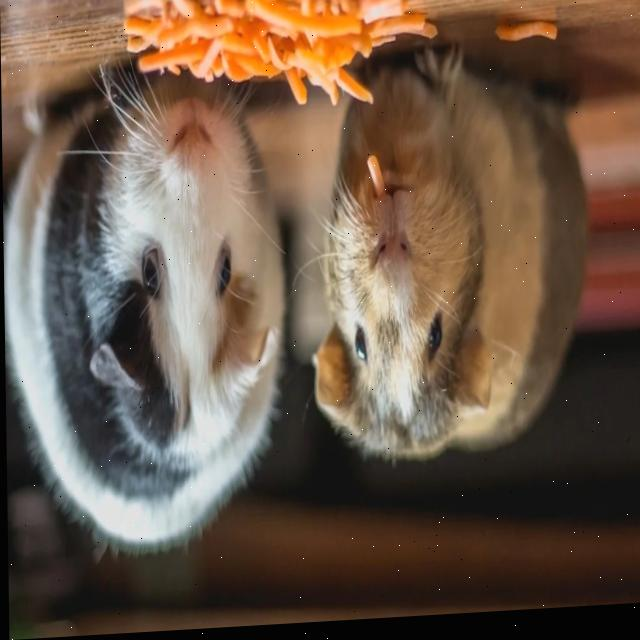guinea pig: (1, 65, 285, 554), (310, 54, 587, 469)
